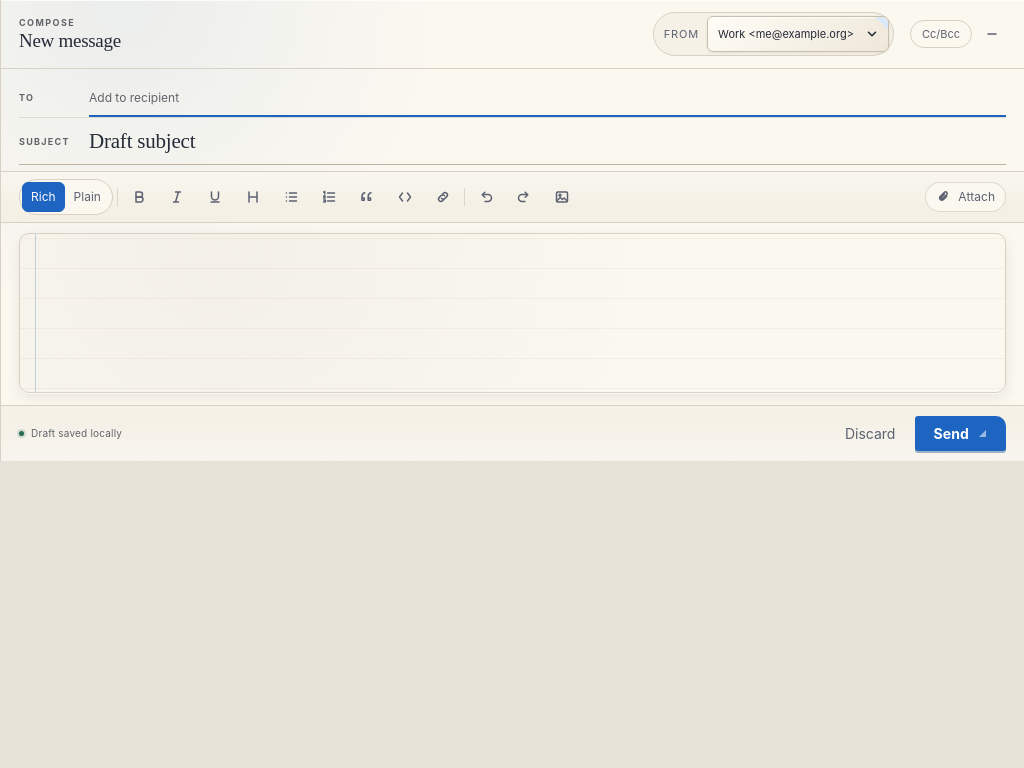
ComposePane › cc_bcc_hidden_until_toggled
Step 1. Click the button "Cc/Bcc" → (941, 34), box [910,20,972,48]
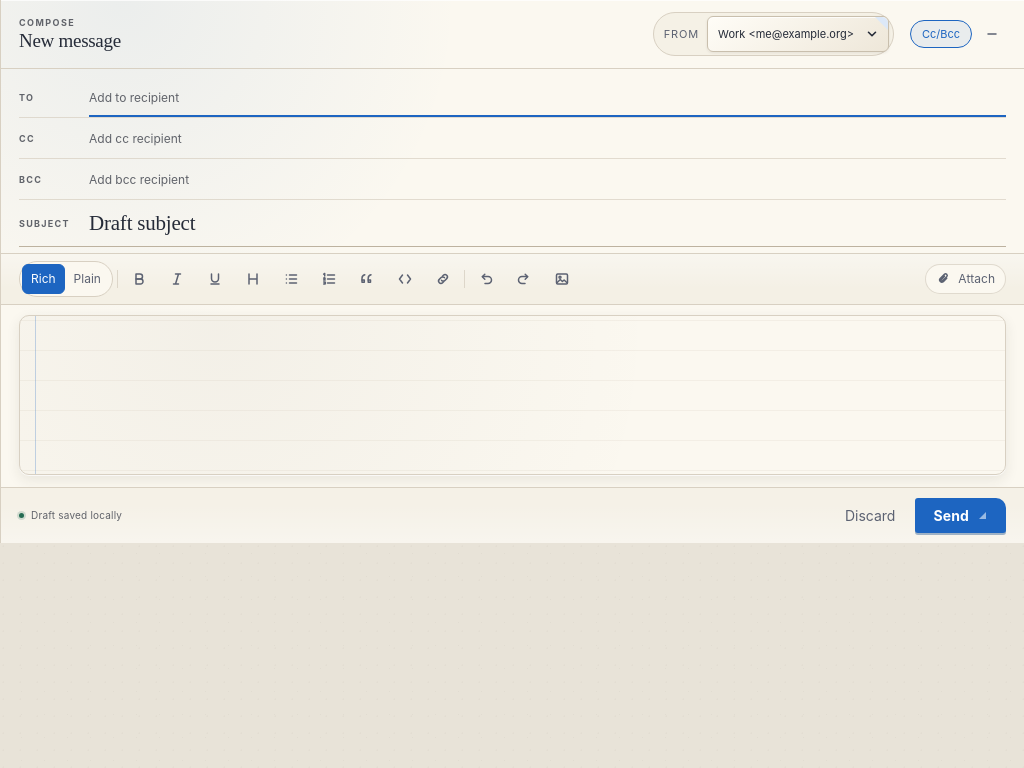
Expected: the field labelled "Cc" is shown, [89,126,1006,152]
Expected: the field labelled "Bcc" is shown, [89,167,1006,193]
